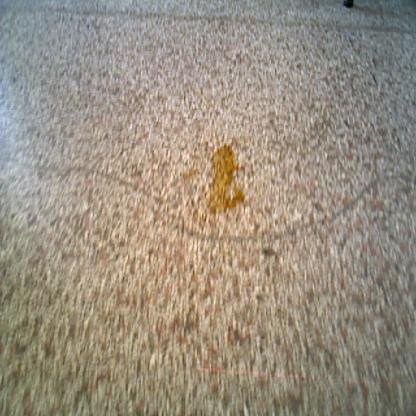liquid: (205, 142, 245, 215)
